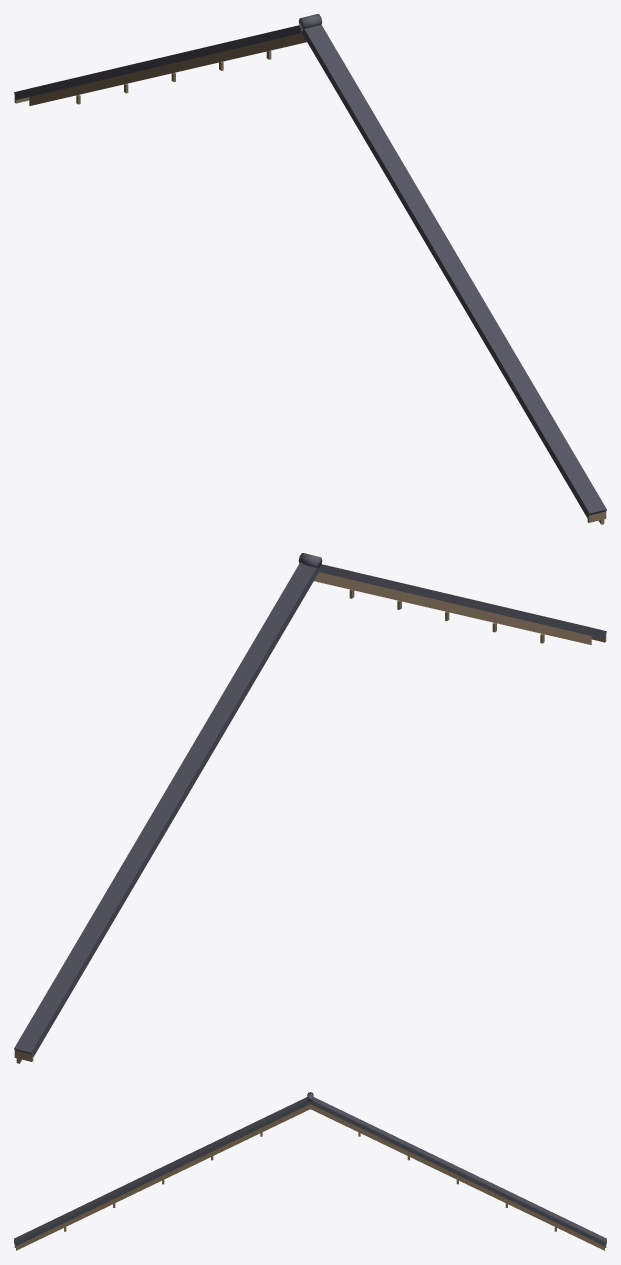
File: kit_clapboard_slate_w12_end.glb
3 views of the same model, one above another, from view 1: azimuth 30°, elevation 25°; view 2: azimuth 150°, elevation 25°; view 3: azimuth 270°, elevation 25° (orthographic). The views are drawn at different scales.
Parts seen in each view (by area): view 1: kit_clapboard_slate_w12_end; view 2: kit_clapboard_slate_w12_end; view 3: kit_clapboard_slate_w12_end.
Boxes of the visible parts, x1=… form: kit_clapboard_slate_w12_end: x1=14, y1=14, x2=606, y2=524; kit_clapboard_slate_w12_end: x1=14, y1=553, x2=606, y2=1063; kit_clapboard_slate_w12_end: x1=14, y1=1092, x2=606, y2=1250.
Size of the model in its own units: 0.22 by 3.65 by 12.68.
